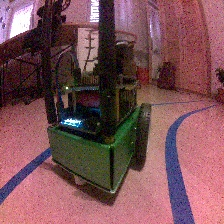rob: (45, 42, 152, 195)
